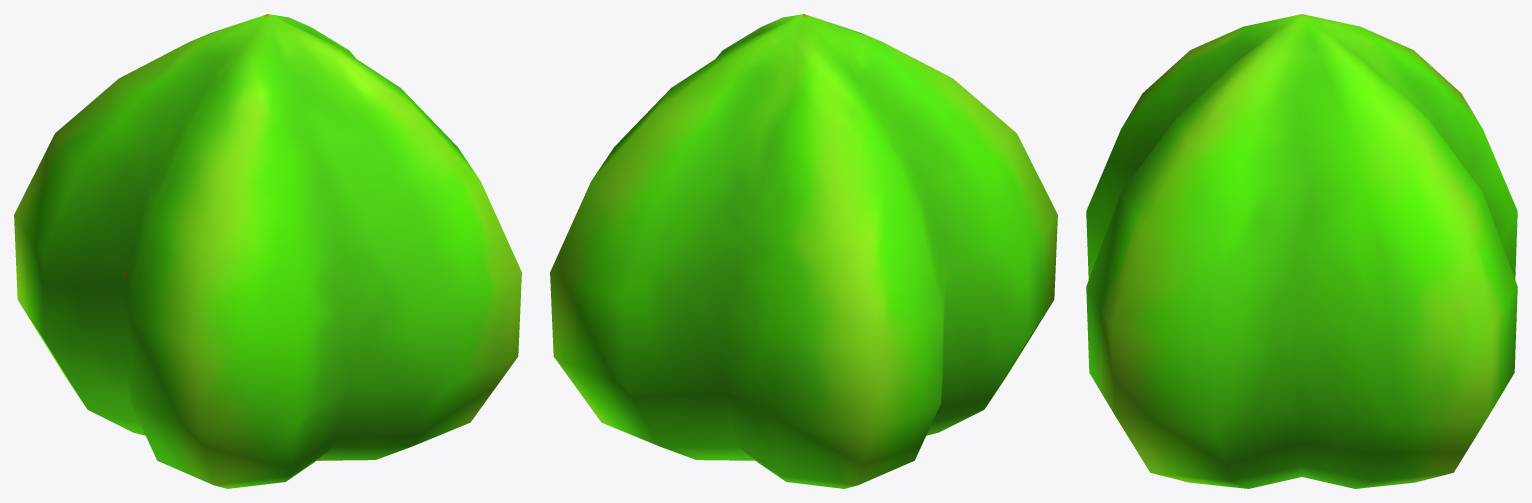
File: kaktus3.fbx
3 renders of one model, left to right at view 1: azimuth 30°, elevation 25°; view 2: azimuth 150°, elevation 25°; view 3: azimuth 270°, elevation 25°, orthographic. The views are drawn at different scales.
Visible parts, largest first — view 1: Sphere.004; view 2: Sphere.004; view 3: Sphere.004.
Boxes of the visible parts, box(x1,y1,x2,y2) form: Sphere.004: box(14, 14, 521, 488); Sphere.004: box(550, 14, 1057, 488); Sphere.004: box(1086, 14, 1517, 488).
Size of the model in its own units: 114 by 127 by 114.
1 material, 1 textured.
